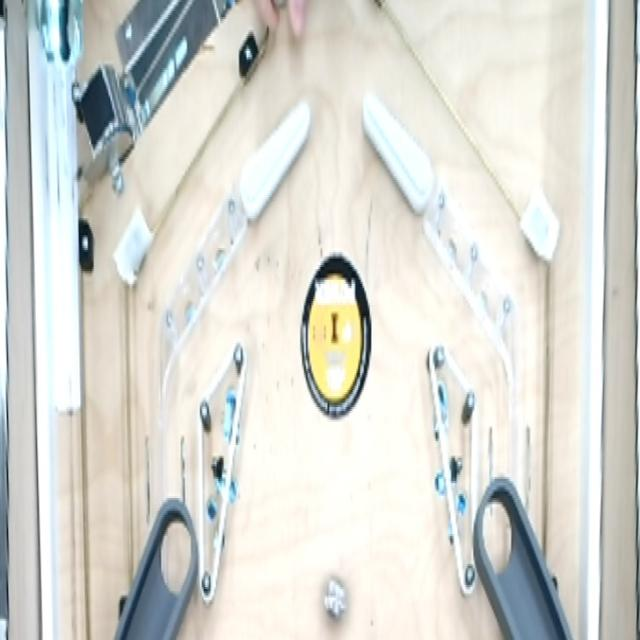ball: (318, 566, 351, 640)
flipper-left: (360, 86, 437, 233)
flipper-right: (238, 88, 312, 228)
